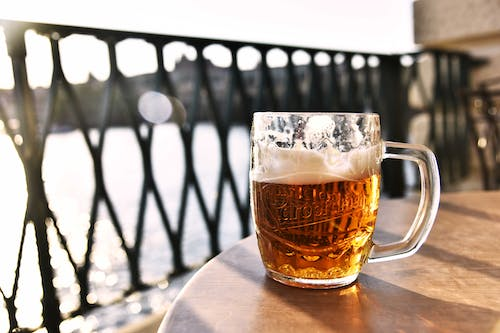alcohol: (248, 111, 441, 290)
